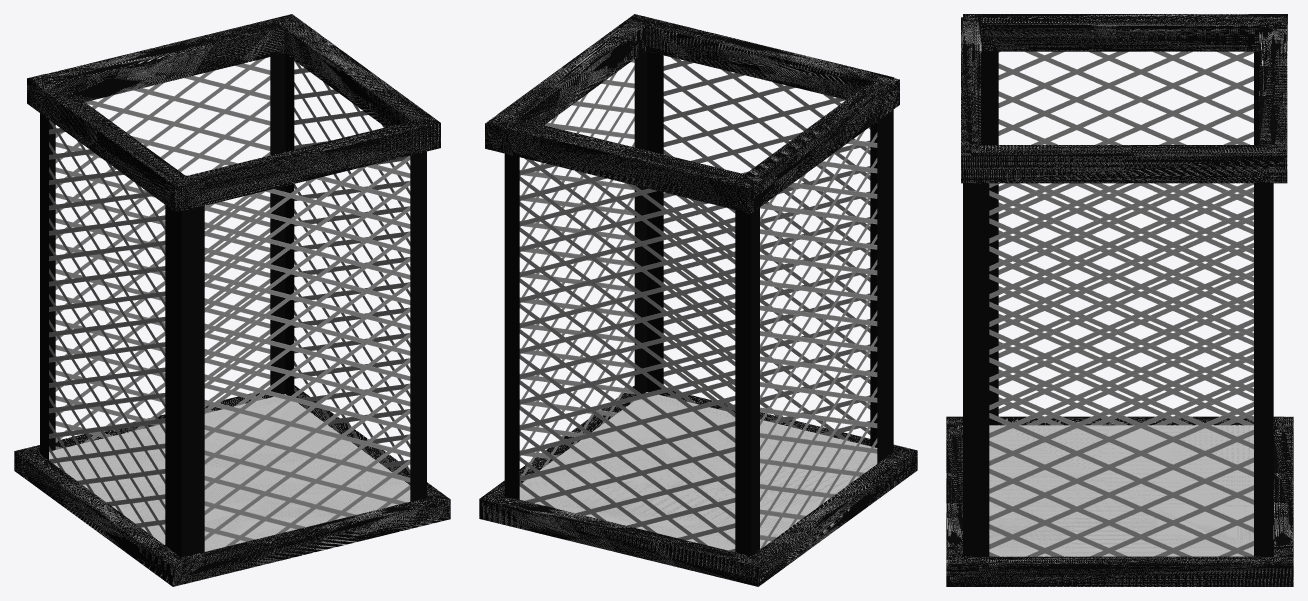
3 views of the same model, side by side, from view 1: azimuth 30°, elevation 25°; view 2: azimuth 150°, elevation 25°; view 3: azimuth 270°, elevation 25° (orthographic). The views are drawn at different scales.
Parts seen in each view (by area): view 1: mesh1_mesh1-geometry; view 2: mesh1_mesh1-geometry; view 3: mesh1_mesh1-geometry.
Part boxes in pixels (<box>): mesh1_mesh1-geometry: <box>14,14,450,586</box>; mesh1_mesh1-geometry: <box>479,14,917,586</box>; mesh1_mesh1-geometry: <box>946,14,1293,586</box>.
Bounding box in the file's own units: 0.5132 × 0.6923 × 0.5073.
